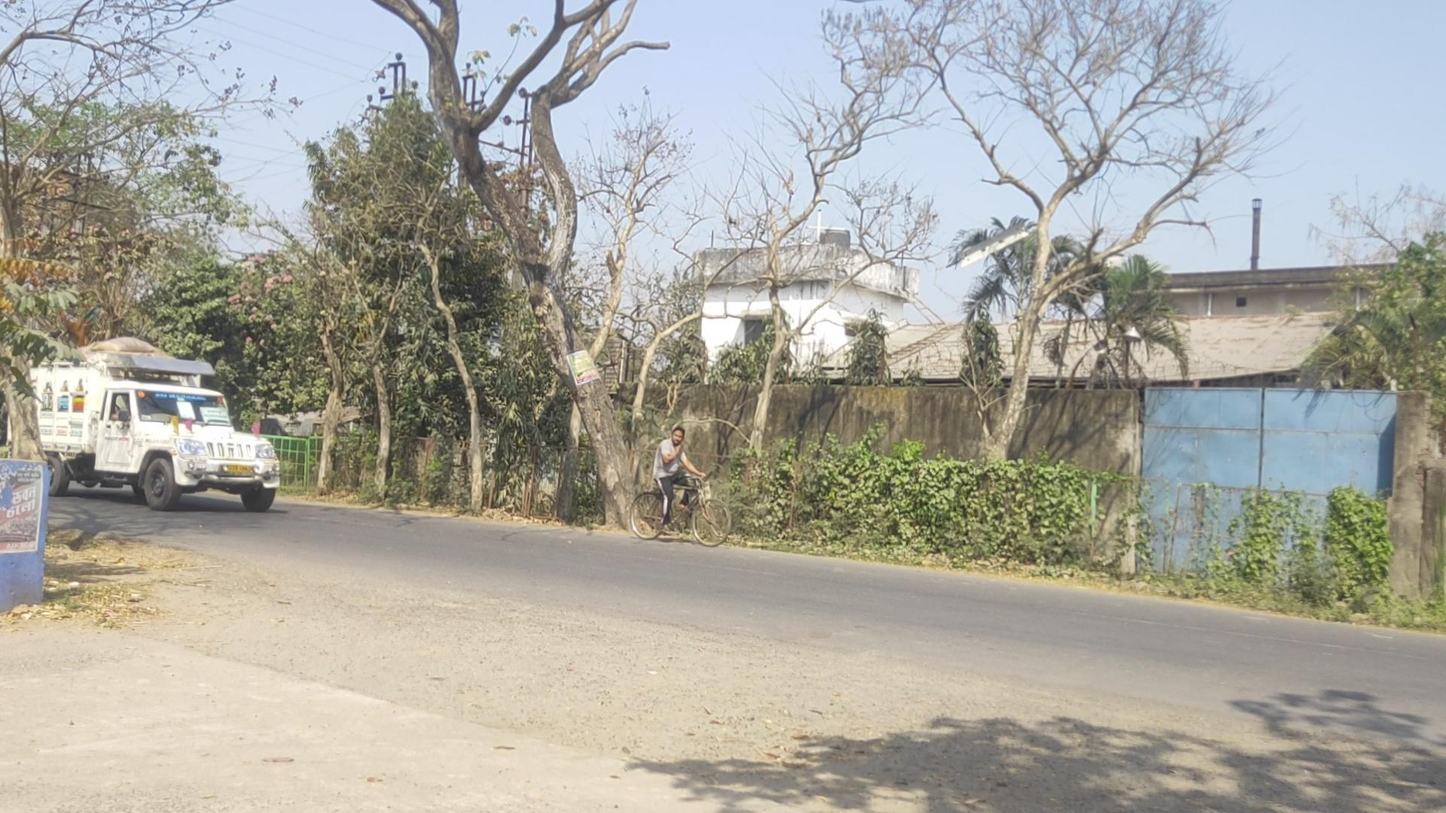bike: (630, 425, 732, 548)
van: (8, 336, 279, 513)
